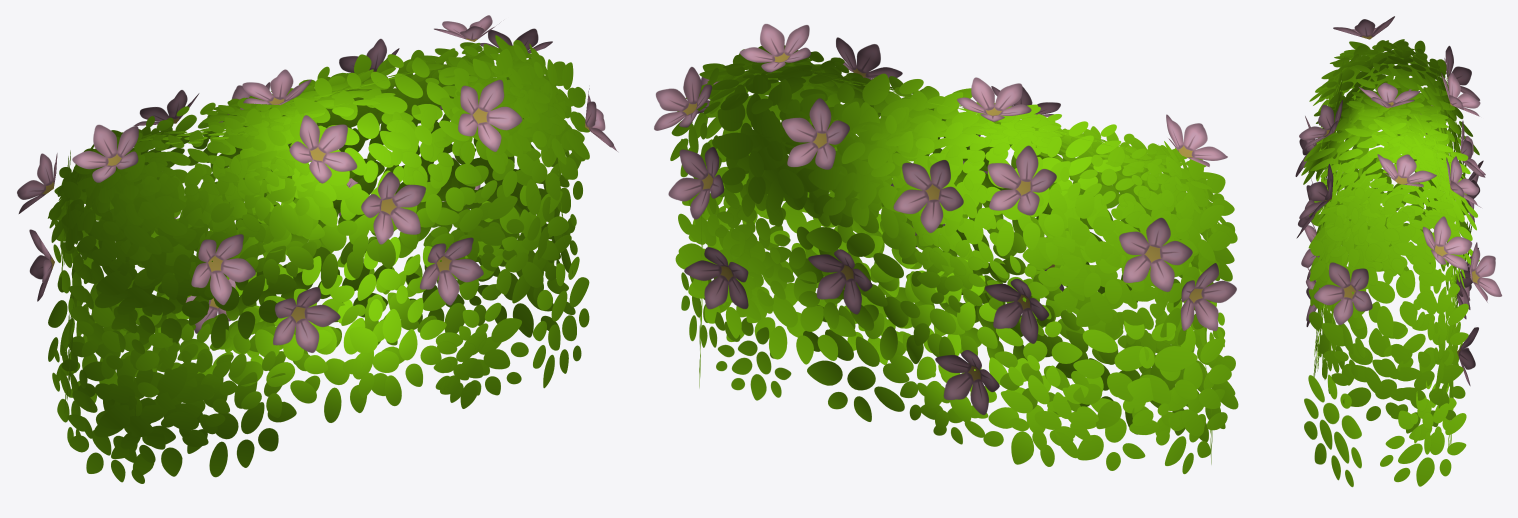
File: Bush_Large_Flowers.gltf
3 views of the same model, side by side, from view 1: azimuth 30°, elevation 25°; view 2: azimuth 150°, elevation 25°; view 3: azimuth 270°, elevation 25° (orthographic). The views are drawn at different scales.
Parts seen in each view (by area): view 1: Bush_Large_Flowers; view 2: Bush_Large_Flowers; view 3: Bush_Large_Flowers.
Boxes of the visible parts, box(x1,y1,x2,y2) form: Bush_Large_Flowers: box(17, 15, 617, 483); Bush_Large_Flowers: box(654, 24, 1238, 474); Bush_Large_Flowers: box(1295, 16, 1501, 487).
Bounding box in the file's own units: 1.93 × 1.26 × 0.7617.
2 materials, 2 textured.
